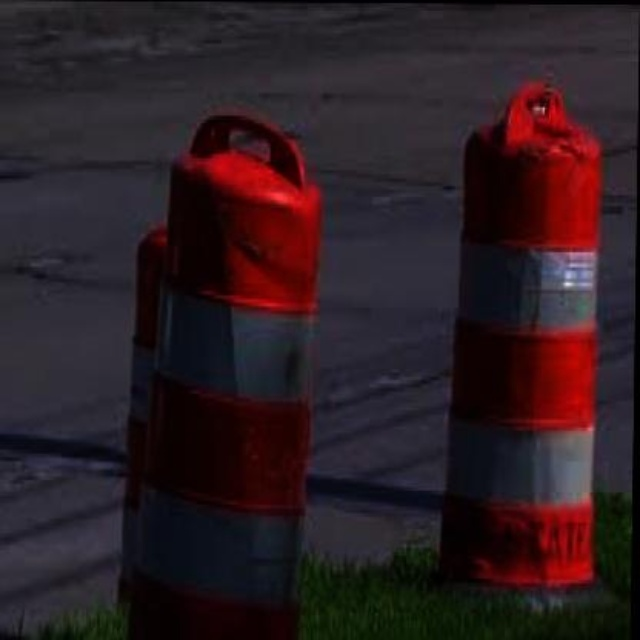obstacle: (129, 73, 328, 640), (447, 94, 600, 602)
